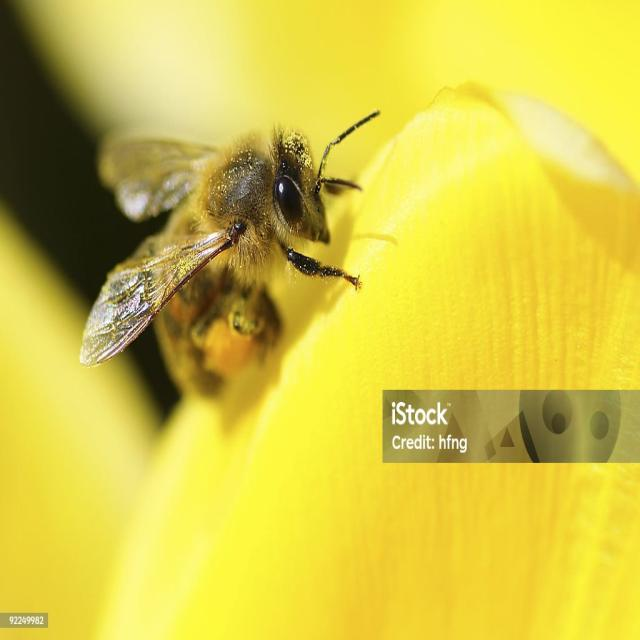bees: (77, 105, 384, 418)
